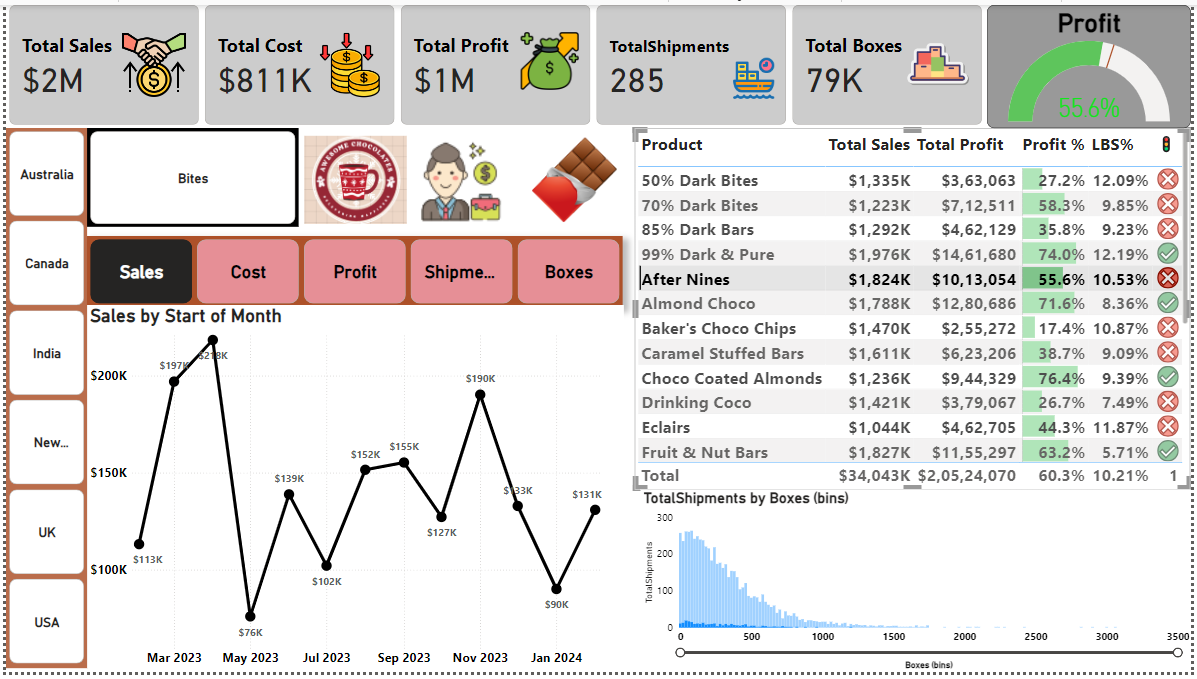

What the dashboard file says about the page in this screenshot:
{"tool":"powerbi","page":{"name":"Sales Report","canvas":[1920,1080],"ordinal":0},"visuals":[{"type":"cardVisual","fields":{"Data":["_Measueres.Total Sales","_Measueres.Total Cost","_Measueres.Total Profit","_Measueres.Total shipments","_Measueres.Total Boxes"]},"box":[0,0,1588.5,199.2],"z":0},{"type":"image","box":[473.6,206.5,184.6,153],"z":1000},{"type":"advancedSlicerVisual","fields":{"Values":["Parameter.Parameter"]},"box":[131.2,374,867.1,114.2],"z":2000},{"type":"lineChart","fields":{"Y":["_Measueres.Total Sales"],"Category":["Calendar.Start of Month"]},"box":[131.2,485.8,869.5,595.1],"z":3000},{"type":"image","title":"Product icon","box":[840.4,206.5,160.3,153],"z":5000},{"type":"image","title":"Sales person icon","box":[658.2,208.9,157.9,153],"z":6000},{"type":"tableEx","title":"Products performance","fields":{"Values":["products.Product","_Measueres.Total Sales","_Measueres.Total Profit","_Measueres.Profit %","_Measueres.LBS%","_Measueres.Target Status"]},"box":[1017.7,199.2,901.1,585.4],"z":7000},{"type":"gauge","title":"Profit","fields":{"Y":["_Measueres.Profit %"]},"box":[1588.5,0,330.3,199.2],"z":8000},{"type":"columnChart","fields":{"Category":["shipments.Boxes (bins)"],"Y":["_Measueres.TotalShipments"]},"box":[1027.4,784.5,893.8,296.3],"z":9000},{"type":"advancedSlicerVisual","fields":{"Values":["products.Category"]},"box":[131.2,199.2,342.5,160.3],"z":10000},{"type":"advancedSlicerVisual","fields":{"Values":["locations.Geo"]},"box":[0,199.2,131.2,874.4],"z":11000}]}

Visuals, with their boxes in screenshot pixels (x1, y1, x2, y2), scaled from the page's 1920x1080 canvas onto the 1197x679 screenshot:
cardVisual - _Measueres.Total Sales x _Measueres.Total Cost: left=0, top=0, right=990, bottom=125
image: left=295, top=130, right=410, bottom=226
advancedSlicerVisual - Parameter.Parameter: left=82, top=235, right=622, bottom=307
lineChart - _Measueres.Total Sales x Calendar.Start of Month: left=82, top=305, right=624, bottom=678
"Product icon" image: left=524, top=130, right=624, bottom=226
"Sales person icon" image: left=410, top=131, right=509, bottom=228
"Products performance" tableEx: left=634, top=125, right=1196, bottom=493
"Profit" gauge: left=990, top=0, right=1196, bottom=125
columnChart - shipments.Boxes (bins) x _Measueres.TotalShipments: left=641, top=493, right=1196, bottom=678
advancedSlicerVisual - products.Category: left=82, top=125, right=295, bottom=226
advancedSlicerVisual - locations.Geo: left=0, top=125, right=82, bottom=675
